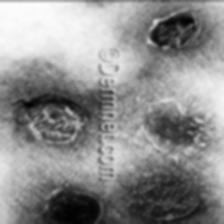Toxin: (125, 93, 214, 224), (7, 89, 88, 152), (136, 2, 206, 60), (39, 187, 107, 224)
